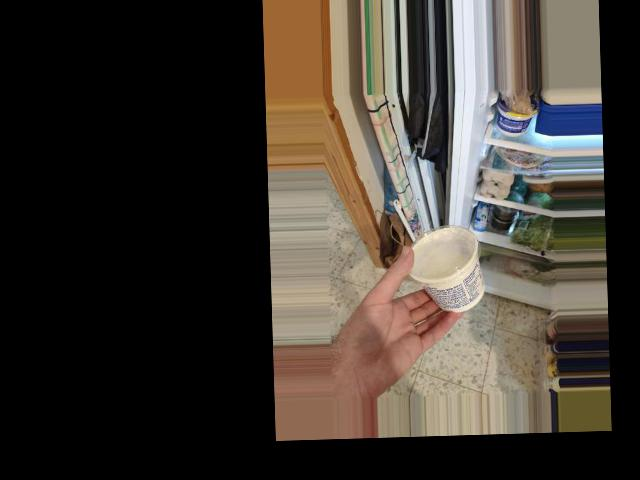cotage: (409, 225, 478, 313)
